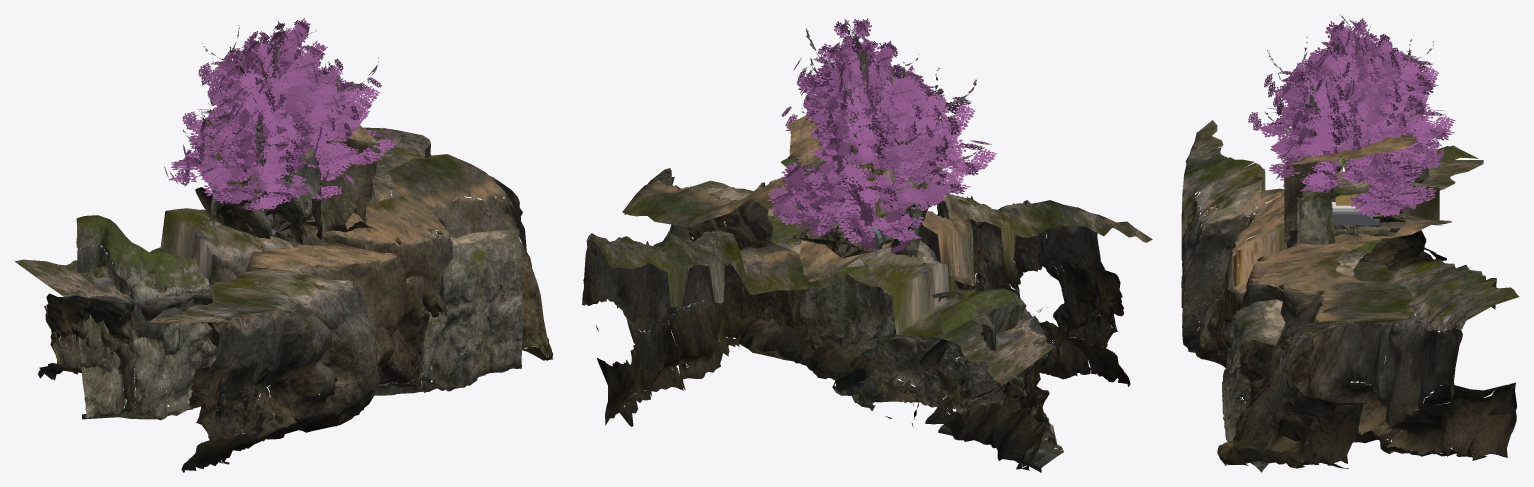
Rendered from scatter-kit.6ecb016f3954.glb.
The picture shows the model from 3 angles, left to right: view 1: azimuth 30°, elevation 25°; view 2: azimuth 150°, elevation 25°; view 3: azimuth 270°, elevation 25°; orthographic projection. The views are drawn at different scales.
Visible parts, largest first — view 1: MF_Cliff_B_rock, MF_Cliff_C_rock, MF_Cliff_A_rock, MF_Tree_Purple_G_leaves, MF_Rock_Large_A_rock, MF_Tree_Purple_F_leaves, MF_Tree_Purple_C_leaves, MF_Tree_Purple_E_leaves, MF_Tree_Purple_D_leaves, MF_Tree_Purple_B_leaves, MF_Tree_Bare_A_bark, MF_Tree_Purple_A_leaves; view 2: MF_Cliff_B_rock, MF_Cliff_A_rock, MF_Cliff_C_rock, MF_Tree_Purple_G_leaves, MF_Tree_Purple_F_leaves, MF_Tree_Purple_E_leaves, MF_Tree_Purple_D_leaves, MF_Tree_Purple_C_leaves, MF_Rock_Large_A_rock, MF_Tree_Purple_B_leaves, MF_Rock_Shore_B_rock, MF_Tree_Bare_A_bark (+1 smaller); view 3: MF_Cliff_B_rock, MF_Cliff_A_rock, MF_Tree_Purple_G_leaves, MF_Tree_Purple_F_leaves, MF_Cliff_C_rock, MF_Tree_Purple_C_leaves, MF_Tree_Purple_E_leaves, MF_Rock_Large_A_rock, MF_Rock_Large_B_rock, MF_Tree_Purple_D_leaves, MF_Tree_Purple_B_leaves, MF_Rock_Shore_B_rock (+3 smaller).
Boxes of the visible parts, <box> form: MF_Cliff_B_rock: <box>146,127,458,472</box>; MF_Cliff_C_rock: <box>76,215,522,420</box>; MF_Cliff_A_rock: <box>14,154,552,380</box>; MF_Tree_Purple_G_leaves: <box>183,41,381,182</box>; MF_Rock_Large_A_rock: <box>193,118,380,244</box>; MF_Tree_Purple_F_leaves: <box>164,107,398,210</box>; MF_Tree_Purple_C_leaves: <box>217,61,362,154</box>; MF_Tree_Purple_E_leaves: <box>233,18,343,142</box>; MF_Tree_Purple_D_leaves: <box>194,71,371,183</box>; MF_Tree_Purple_B_leaves: <box>196,78,370,181</box>; MF_Tree_Bare_A_bark: <box>183,19,379,235</box>; MF_Tree_Purple_A_leaves: <box>234,100,348,160</box>; MF_Cliff_B_rock: <box>582,193,1152,426</box>; MF_Cliff_A_rock: <box>622,168,1057,470</box>; MF_Cliff_C_rock: <box>691,180,1063,472</box>; MF_Tree_Purple_G_leaves: <box>781,39,975,222</box>; MF_Tree_Purple_F_leaves: <box>767,106,996,252</box>; MF_Tree_Purple_E_leaves: <box>812,18,928,175</box>; MF_Tree_Purple_D_leaves: <box>792,71,962,225</box>; MF_Tree_Purple_C_leaves: <box>798,63,933,175</box>; MF_Rock_Large_A_rock: <box>786,114,939,256</box>; MF_Tree_Purple_B_leaves: <box>796,80,959,225</box>; MF_Rock_Shore_B_rock: <box>791,217,894,258</box>; MF_Tree_Bare_A_bark: <box>795,19,976,204</box>; MF_Cliff_B_rock: <box>1181,120,1519,460</box>; MF_Cliff_A_rock: <box>1217,160,1483,468</box>; MF_Tree_Purple_G_leaves: <box>1264,31,1438,201</box>; MF_Tree_Purple_F_leaves: <box>1248,107,1455,217</box>; MF_Cliff_C_rock: <box>1222,145,1478,472</box>; MF_Tree_Purple_C_leaves: <box>1281,48,1417,170</box>; MF_Tree_Purple_E_leaves: <box>1298,18,1403,174</box>; MF_Rock_Large_A_rock: <box>1284,114,1416,243</box>; MF_Rock_Large_B_rock: <box>1297,166,1370,244</box>; MF_Tree_Purple_D_leaves: <box>1273,76,1429,200</box>; MF_Tree_Purple_B_leaves: <box>1274,80,1428,200</box>; MF_Rock_Shore_B_rock: <box>1296,192,1409,236</box>.
Bounding box in the file's own units: 19.9 × 16.9 × 13.91.
18 materials, 8 textured.
